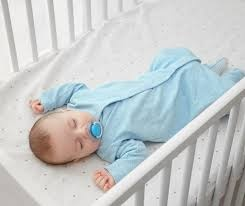baby: (29, 48, 243, 190)
crib: (0, 0, 244, 205)
